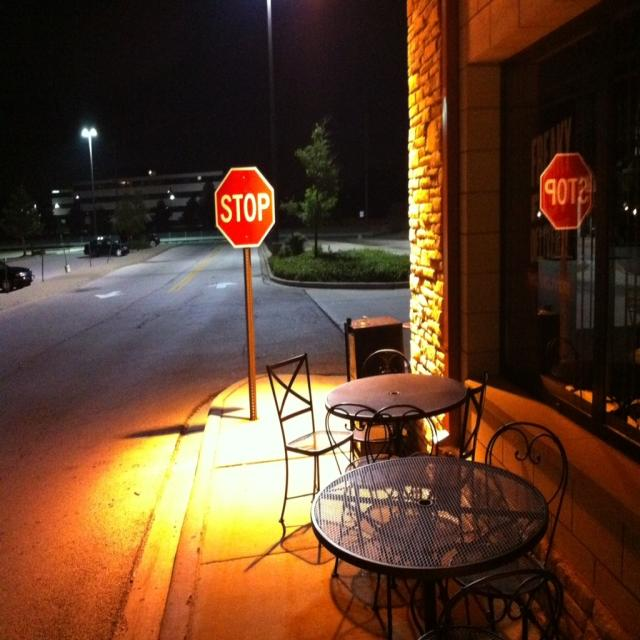Stop-sign: (214, 166, 277, 249)
